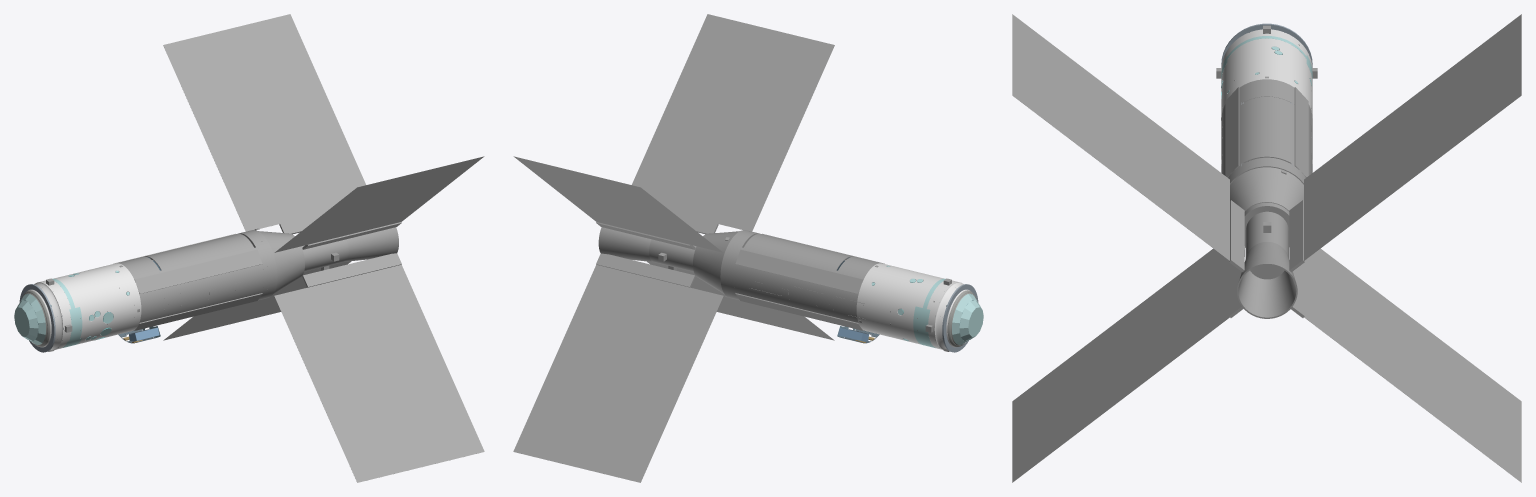
Rendered from wayfarer_bay_fullship_88ce19fc_stowed_stowed.glb.
The picture shows the model from 3 angles, left to right: view 1: azimuth 30°, elevation 25°; view 2: azimuth 150°, elevation 25°; view 3: azimuth 270°, elevation 25°; orthographic projection. The views are drawn at different scales.
Visible parts, largest first — view 1: dry:hotfin_220:folded_envelope, dry:hotfin_40:folded_envelope, dry:hotfin_140:folded_envelope, dry:armor, dry:skin_midship, dry:hotfin_320:folded_envelope, dry:strake_140:stowed_stack, dry:thrust_cone, dry:skin_service, dry:door_port, dry:hotfin_root_220:root, dry:nozzle (+4 smaller); view 2: dry:hotfin_320:folded_envelope, dry:hotfin_140:folded_envelope, dry:hotfin_40:folded_envelope, dry:armor, dry:skin_midship, dry:hotfin_220:folded_envelope, dry:strake_40:stowed_stack, dry:skin_service, dry:thrust_cone, dry:door_starboard, dry:hotfin_root_320:root, dry:nozzle (+4 smaller); view 3: dry:hotfin_40:folded_envelope, dry:hotfin_140:folded_envelope, dry:hotfin_220:folded_envelope, dry:hotfin_320:folded_envelope, dry:armor, dry:nozzle, dry:thrust_cone, dry:reactor, dry:door_port, dry:door_starboard, dry:skin_service, dry:strake_40:stowed_stack (+7 smaller).
Part boxes in pixels (x1,y1,x2,y2): dry:hotfin_220:folded_envelope: (274, 264, 484, 482); dry:hotfin_40:folded_envelope: (163, 14, 365, 231); dry:hotfin_140:folded_envelope: (274, 156, 484, 252); dry:armor: (23, 263, 141, 350); dry:skin_midship: (160, 247, 263, 316); dry:hotfin_320:folded_envelope: (163, 261, 351, 340); dry:strake_140:stowed_stack: (134, 249, 262, 293); dry:thrust_cone: (258, 231, 304, 293); dry:skin_service: (117, 256, 168, 330); dry:door_port: (152, 236, 253, 270); dry:hotfin_root_220:root: (302, 253, 401, 287); dry:nozzle: (345, 227, 398, 261); dry:hotfin_320:folded_envelope: (513, 264, 723, 482); dry:hotfin_140:folded_envelope: (632, 14, 834, 231); dry:hotfin_40:folded_envelope: (513, 156, 723, 252); dry:armor: (856, 263, 974, 350); dry:skin_midship: (734, 247, 837, 316); dry:hotfin_220:folded_envelope: (647, 261, 834, 340); dry:strake_40:stowed_stack: (735, 249, 863, 293); dry:skin_service: (829, 256, 880, 330); dry:thrust_cone: (693, 231, 739, 293); dry:door_starboard: (744, 236, 845, 270); dry:hotfin_root_320:root: (596, 253, 695, 287); dry:nozzle: (598, 227, 652, 261); dry:hotfin_40:folded_envelope: (1304, 14, 1521, 260); dry:hotfin_140:folded_envelope: (1012, 14, 1229, 260); dry:hotfin_220:folded_envelope: (1012, 248, 1229, 482); dry:hotfin_320:folded_envelope: (1304, 248, 1521, 482); dry:armor: (1221, 29, 1312, 117); dry:nozzle: (1237, 242, 1297, 318); dry:thrust_cone: (1230, 167, 1303, 247); dry:reactor: (1245, 211, 1288, 279); dry:door_port: (1242, 97, 1266, 163); dry:door_starboard: (1267, 97, 1291, 163); dry:skin_service: (1221, 79, 1312, 135); dry:strake_40:stowed_stack: (1294, 87, 1308, 177).
Bounding box in the file's own units: 54.5 × 42.11 × 50.18.
